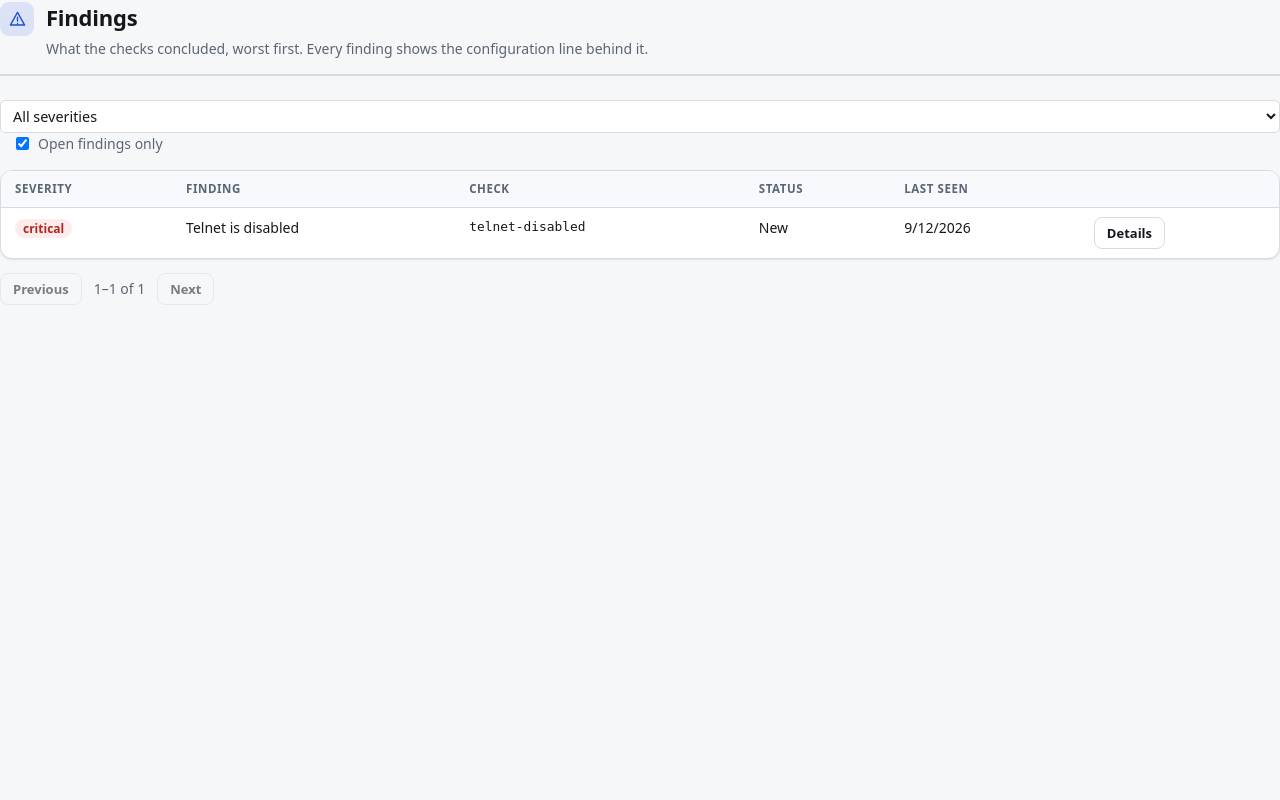
Test: FindingsPage › explains a check with no line-level evidence rather than showing a blank
This screenshot has width=1280, height=800.
Check: the text "Telnet is disabled" is shown, box [172,207,455,258]
What coordinates should you click on to do the following:
click the button with aria-label "Details for Telnet is disabled"
I would click on:
 (1129, 233)
Its box is [1094,217,1165,249].
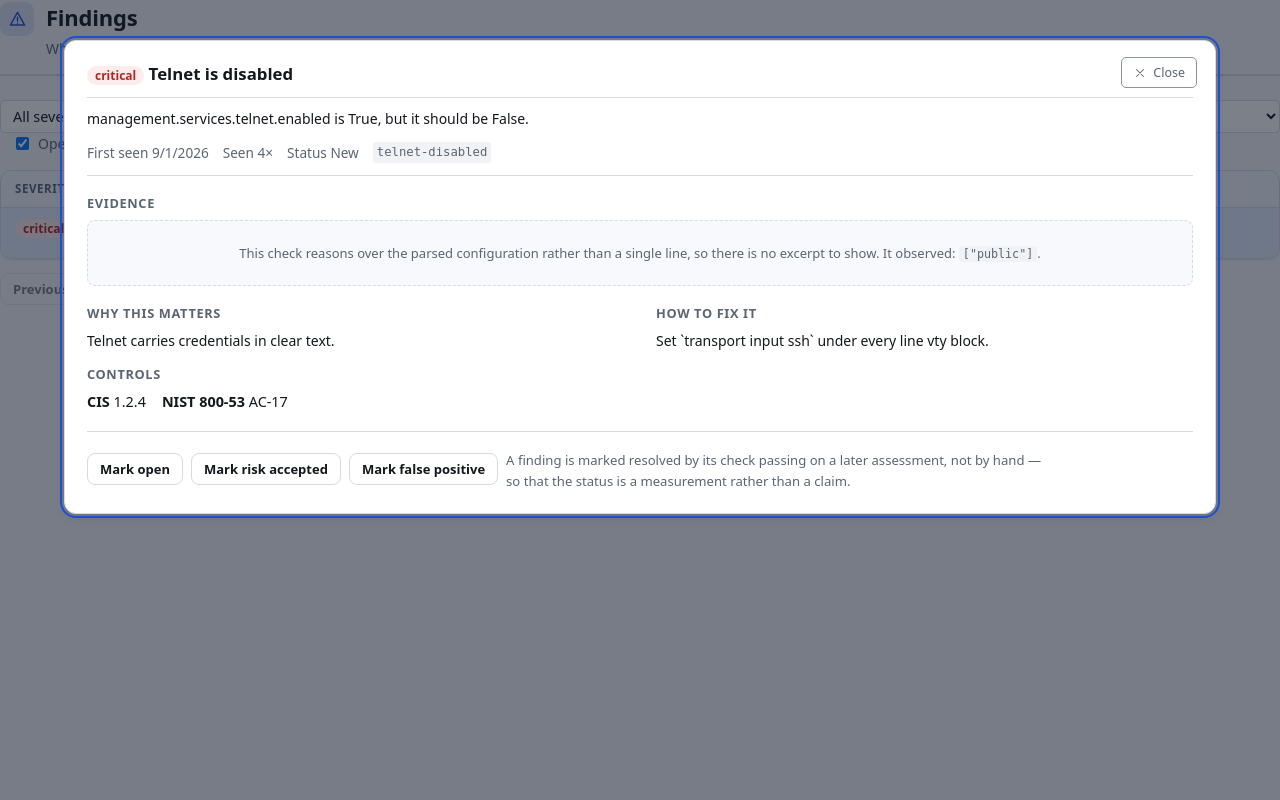
Check: the text "reasons over the parsed configuration" is shown, box [239,244,879,262]
